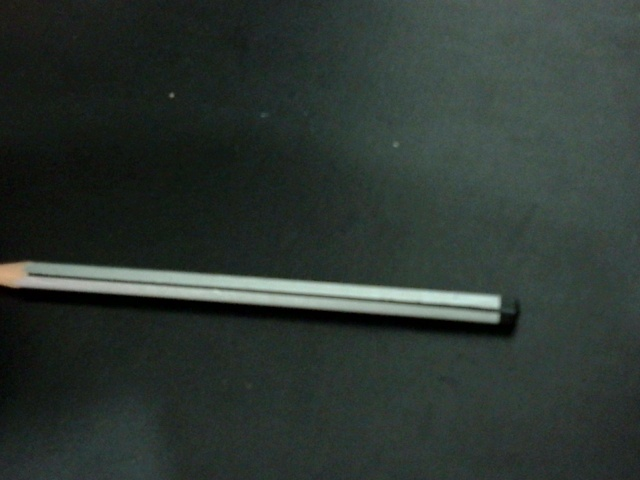pencil: (9, 235, 533, 357)
